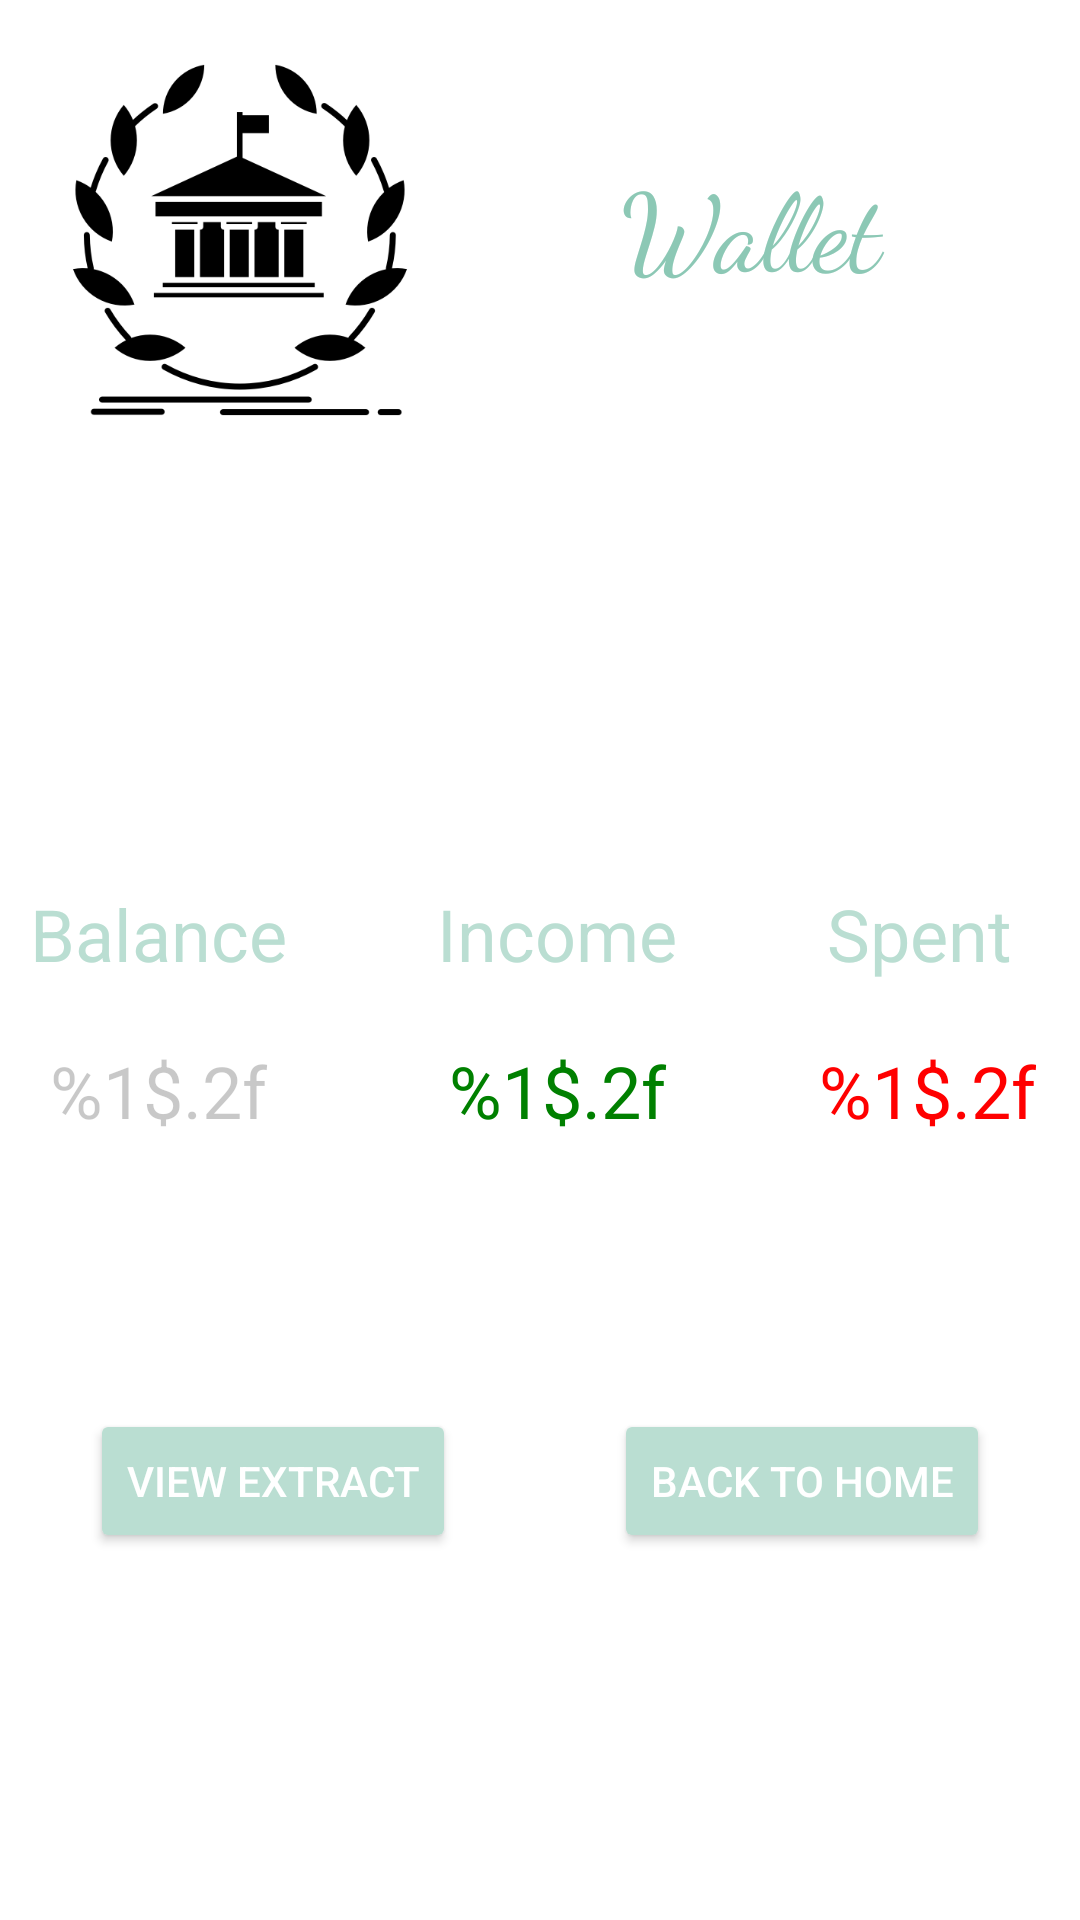

Point at icon controls on the screen. Image size 1080 × 1920, points as (x,y).
The Bank Icon: (240,240)
